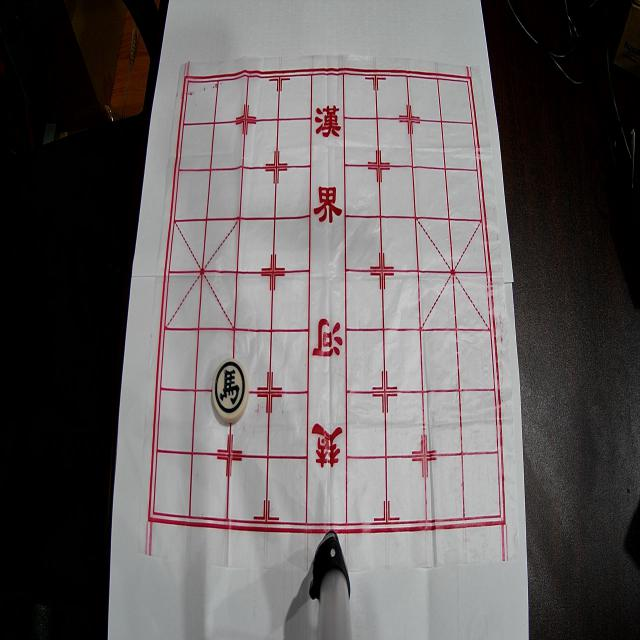black-horse: (212, 359, 249, 423)
